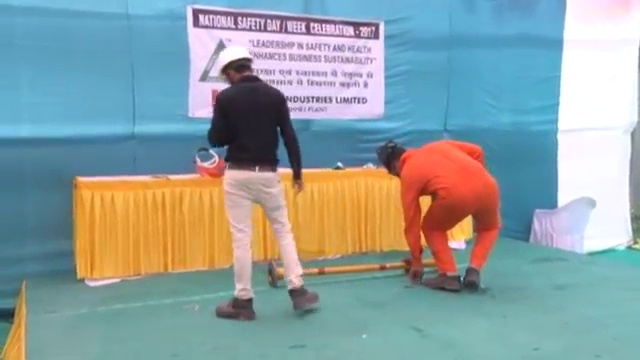helmet: (216, 42, 254, 77)
helmet_off: (385, 145, 406, 173)
helmet_on: (214, 42, 256, 87)
person: (208, 41, 322, 321), (378, 136, 495, 301)
